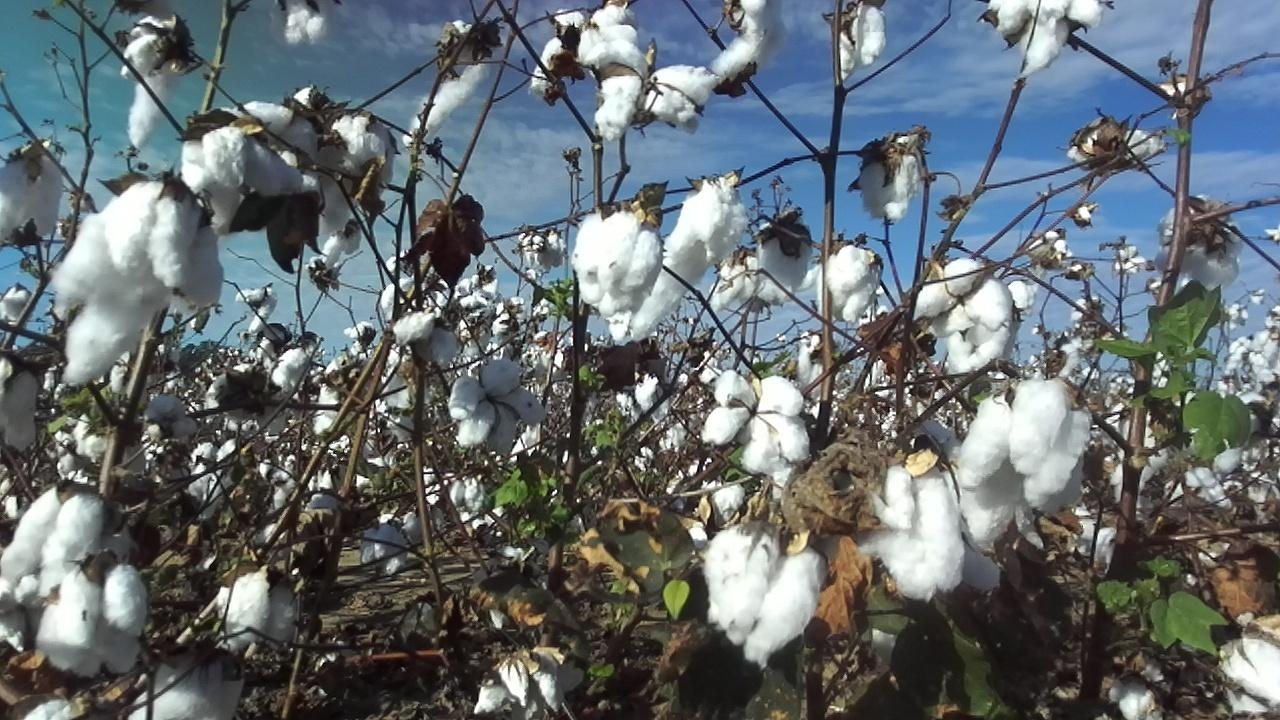cotton_ready: (52, 173, 225, 389), (954, 377, 1092, 537), (630, 177, 750, 340), (705, 520, 824, 675), (272, 89, 392, 232), (850, 459, 962, 602), (533, 0, 644, 144), (184, 100, 300, 226), (0, 484, 112, 595), (39, 564, 150, 675), (400, 19, 494, 147), (449, 357, 548, 466), (702, 369, 810, 467), (571, 210, 667, 317), (989, 0, 1102, 77), (132, 649, 249, 720), (215, 562, 300, 654), (476, 644, 589, 711), (1160, 205, 1245, 290), (382, 277, 465, 361), (125, 17, 177, 150), (913, 261, 1007, 334), (1215, 617, 1280, 720), (642, 65, 724, 137), (0, 157, 64, 246), (712, 0, 778, 84), (864, 141, 922, 225), (205, 364, 285, 423), (0, 357, 45, 453), (836, 0, 887, 82), (1062, 126, 1165, 164), (1107, 654, 1165, 720), (758, 217, 810, 289), (832, 246, 879, 325), (275, 0, 330, 49), (797, 337, 837, 397)
